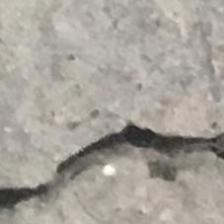Crack: (0, 106, 224, 212)
